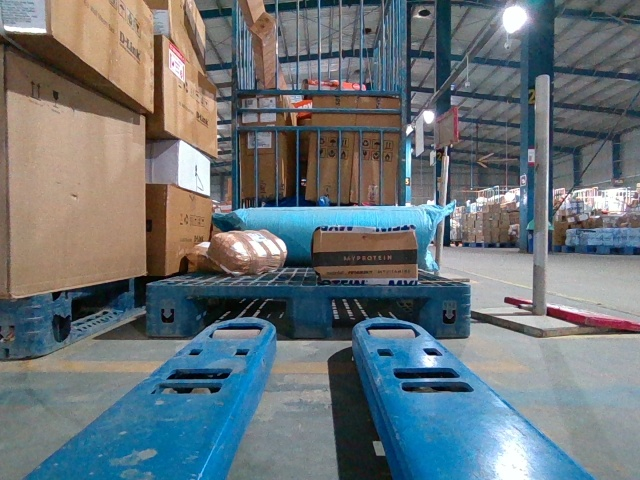pallet: (147, 285, 469, 337)
